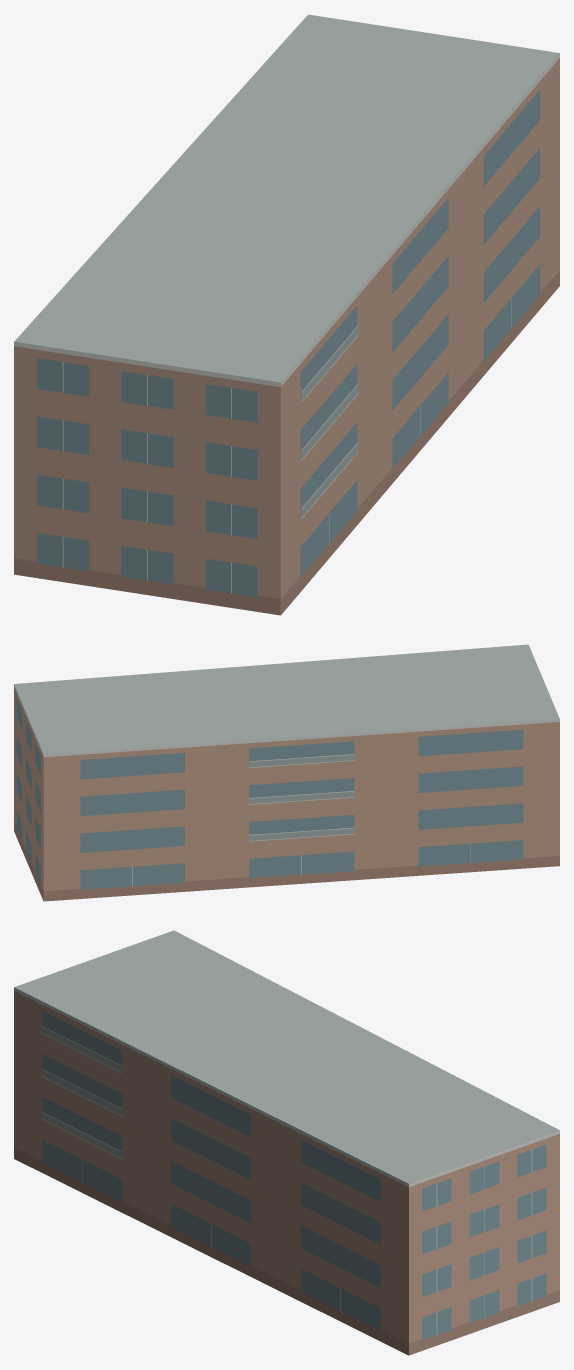
Rendered from survey-upis-32844889.glb.
3 renders of one model, top to bottom at view 1: azimuth 30°, elevation 25°; view 2: azimuth 150°, elevation 25°; view 3: azimuth 270°, elevation 25°, orthographic. The views are drawn at different scales.
Parts seen in each view (by area): view 1: survey-upis-32844889.tmp; view 2: survey-upis-32844889.tmp; view 3: survey-upis-32844889.tmp.
Boxes of the visible parts, x1,y1,x2,y2 form: survey-upis-32844889.tmp: (14, 14, 559, 615); survey-upis-32844889.tmp: (14, 644, 559, 901); survey-upis-32844889.tmp: (14, 930, 559, 1355).
Bounding box in the file's own units: 38.65 × 12.2 × 35.16.
